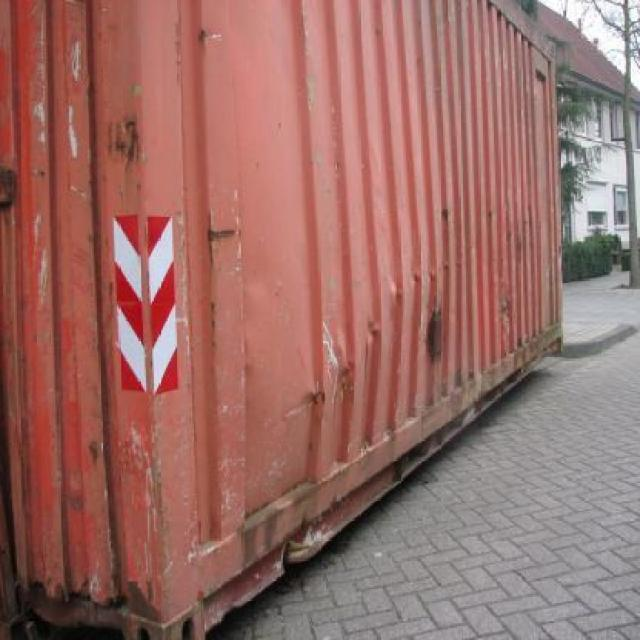dent: (270, 241, 475, 492), (275, 529, 337, 582), (63, 627, 126, 640)
rust: (106, 112, 145, 175), (449, 392, 494, 438), (129, 581, 162, 624), (426, 295, 443, 368), (501, 277, 515, 340), (1, 168, 16, 211), (455, 367, 466, 392)
